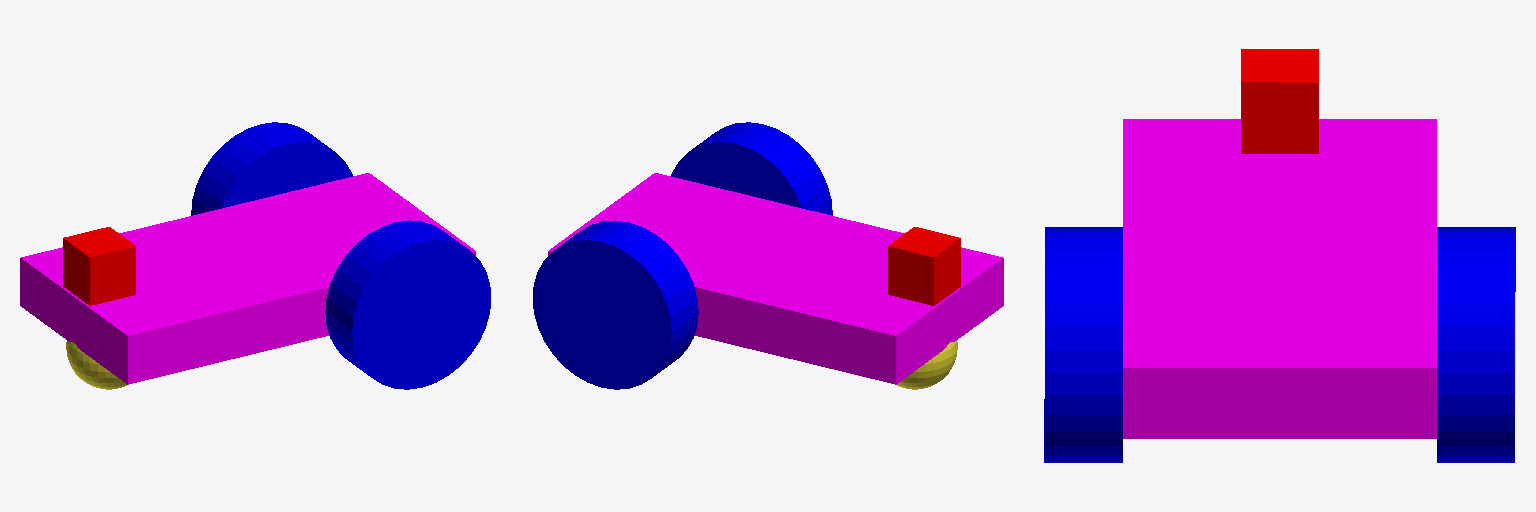
URDF robot description (car):
<?xml version="1.0" ?>

<robot name = "car">

<link name="base">

<visual>

<geometry>

<box size="0.75 0.4 0.1"/>

</geometry>

<material name="pink">

<color rgba="1 0 1 1" />

</material>

</visual>

<inertial>

<mass value="1" />

<inertia ixx="0.01" ixy="0.0" ixz="0" iyy="0.01" iyz="0" izz="0.01" />

</inertial>

<collision>

<geometry>

<box size="0.75 0.4 0.1"/>

</geometry>

</collision>

</link>

<link name="wheel_right_link">

<inertial>

<mass value="2" />

<inertia ixx="0.01" ixy="0.0" ixz="0"

iyy="0.01" iyz="0" izz="0.01" />

</inertial>

<visual>

<geometry>

<cylinder radius="0.15" length="0.1"/>

</geometry>

<material name="blue">

<color rgba="0 0 1 1"/>

</material>

</visual>

<collision>

<geometry>

<cylinder radius="0.15" length="0.1"/>

</geometry>

<contact_coefficients mu="1" kp="1e+13" kd="1.0"/>

</collision>

</link>

<joint name="wheel_right_joint" type="continuous">

<origin xyz="0.2 0.25 0.0" rpy="1.57 0.0 0.0"/>

<parent link="base"/>

<child link="wheel_right_link"/>

<axis xyz="0.0 0.0 1.0"/>

</joint>

<link name="wheel_left_link">

<inertial>

<mass value="2" />

<inertia ixx="0.01" ixy="0.0" ixz="0"

iyy="0.01" iyz="0" izz="0.01" />

</inertial>

<visual>

<geometry>

<cylinder radius="0.15" length="0.1"/>

</geometry>

<material name="blue">

<color rgba="0 0 1 1"/>

</material>

</visual>

<collision>

<geometry>

<cylinder radius="0.15" length="0.1"/>

</geometry>

<contact_coefficients mu="1" kp="1e+13" kd="1.0"/>

</collision>

</link>

<joint name="wheel_left_joint" type="continuous">

<origin xyz="0.2 -0.25 0.0" rpy="1.57 0.0 0.0"/>

<parent link="base"/>

<child link="wheel_left_link"/>

<axis xyz="0.0 0.0 1.0"/>

</joint>

<link name="caster">

<inertial>

<mass value="1" />

<inertia ixx="0.01" ixy="0.0" ixz="0"

iyy="0.01" iyz="0" izz="0.01" />

</inertial>

<visual>

<geometry>

<sphere radius=".08" />

</geometry>

<material name="white" />

</visual>

<collision>

<origin/>

<geometry>

<sphere radius=".08" />

</geometry>

</collision>

</link>

<joint name="caster_joint" type="continuous">

<origin xyz="-0.3 0.0 -0.07" rpy="0.0 0.0 0.0"/>

<axis xyz="0 0 1" />

<parent link="base"/>

<child link="caster"/>

</joint>

<link name="camera">

<inertial>

<mass value="0.5" />

<inertia ixx="0.01" ixy="0.0" ixz="0"

iyy="0.01" iyz="0" izz="0.01" />

</inertial>

<visual>

<geometry>

<box size="0.1 0.1 0.1"/>

</geometry>

<material name="red">

<color rgba="1 0 0 1"/>

</material>

</visual>

<collision>

<geometry>

<box size="0.1 0.1 0.1"/>

</geometry>

</collision>

</link>

<joint name="camera_joint" type="fixed">

<origin xyz="-0.32 0 0.1" rpy="0 0.0 3.14"/>

<parent link="base"/>

<child link="camera"/>

<axis xyz="0.0 0.0 1.0"/>

</joint>

<!--http://wiki.ros.org/simulator_gazebo/Tutorials/ListOfMaterials-->

<gazebo reference="base">

<material>Gazebo/WhiteGlow</material>

</gazebo>

<gazebo reference="wheel_left_link">

<material>Gazebo/SkyBlue</material>

</gazebo>

<gazebo reference="wheel_right_link">

<material>Gazebo/SkyBlue </material>

</gazebo>

<gazebo reference="caster">

<material>Gazebo/Grey</material>

</gazebo>

<gazebo reference="camera">

<material>Gazebo/Blue</material>

</gazebo>

<!-- differential robot-->

<gazebo>

<plugin filename="libgazebo_ros_diff_drive.so" name="gazebo_base_controller">

<odometry_frame>odom</odometry_frame>

<commandTopic>cmd_vel</commandTopic>

<publish_odom>true</publish_odom>

<publish_odom_tf>true</publish_odom_tf>

<update_rate>15.0</update_rate>

<left_joint>wheel_left_joint</left_joint>

<right_joint>wheel_right_joint</right_joint>

<wheel_separation>0.5</wheel_separation>

<wheel_diameter>0.3</wheel_diameter>

<max_wheel_acceleration>0.7</max_wheel_acceleration>

<max_wheel_torque>8</max_wheel_torque>

<robotBaseFrame>base</robotBaseFrame>

</plugin>

</gazebo>

<!-- camera plugin-->

<gazebo reference="camera">

<sensor type="camera" name="camera1">

<visualize>true</visualize>

<update_rate>30.0</update_rate>

<camera name="head">

<horizontal_fov>1.3962634</horizontal_fov>

<image>

<width>512</width>

<height>512</height>

<format>R8G8B8</format>

</image>

<clip>

<near>0.02</near>

<far>500</far>

</clip>

</camera>

<plugin name="camera_controller" filename="libgazebo_ros_camera.so">

<alwaysOn>true</alwaysOn>

<updateRate>0.0</updateRate>

<cameraName>/camera</cameraName>

<imageTopicName>image_raw</imageTopicName>

<cameraInfoTopicName>camera_info</cameraInfoTopicName>

<frameName>camera_link</frameName>

<hackBaseline>0.07</hackBaseline>

</plugin>

</sensor>

<material>Gazebo/Blue</material>

</gazebo>

</robot>

--- Facts derived from the render (not from the file) ---
3 views of the same robot in one strip: view 1: azimuth 30°, elevation 25°; view 2: azimuth 150°, elevation 25°; view 3: azimuth 270°, elevation 25° (orthographic).
Model car with 5 links and 4 joints (3 continuous, 1 fixed), rooted at base, posed every joint at zero.
Links seen in each view (by area): view 1: base, wheel_left_link, wheel_right_link, camera, caster; view 2: base, wheel_right_link, wheel_left_link, camera, caster; view 3: base, wheel_right_link, wheel_left_link, camera.
Link boxes in pixels (x1,y1,x2,y2): base: (20, 173, 475, 384); wheel_left_link: (325, 220, 490, 389); wheel_right_link: (191, 122, 352, 215); camera: (63, 227, 135, 305); caster: (66, 341, 126, 389); base: (548, 173, 1003, 384); wheel_right_link: (533, 220, 698, 389); wheel_left_link: (671, 122, 832, 215); camera: (888, 227, 960, 305); caster: (897, 341, 957, 389); base: (1123, 119, 1436, 438); wheel_right_link: (1437, 227, 1515, 462); wheel_left_link: (1044, 227, 1122, 462); camera: (1241, 49, 1318, 153).
Size in the robot's own frame: 0.755 by 0.6002 by 0.3001 metres.
Geometry: primitives only (box / cylinder / sphere), no mesh files.
